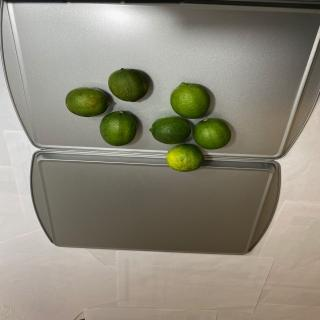Chilli: (64, 67, 232, 172)
Lemon: (170, 82, 211, 119), (65, 86, 110, 118), (99, 110, 137, 146), (108, 68, 148, 102), (192, 118, 232, 150), (149, 116, 191, 144), (166, 144, 204, 172)
